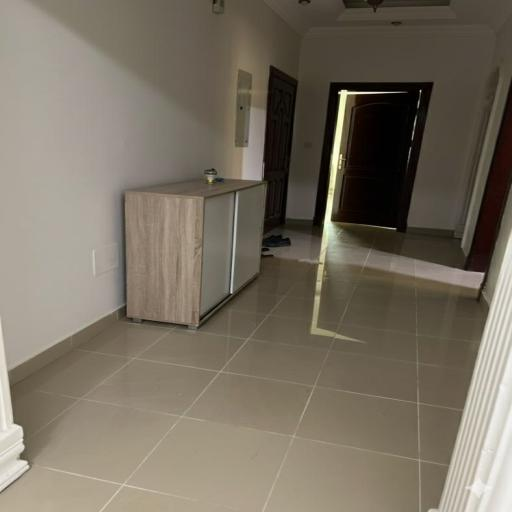car: (31, 0, 512, 512)
child: (332, 91, 419, 228), (264, 67, 297, 230)
